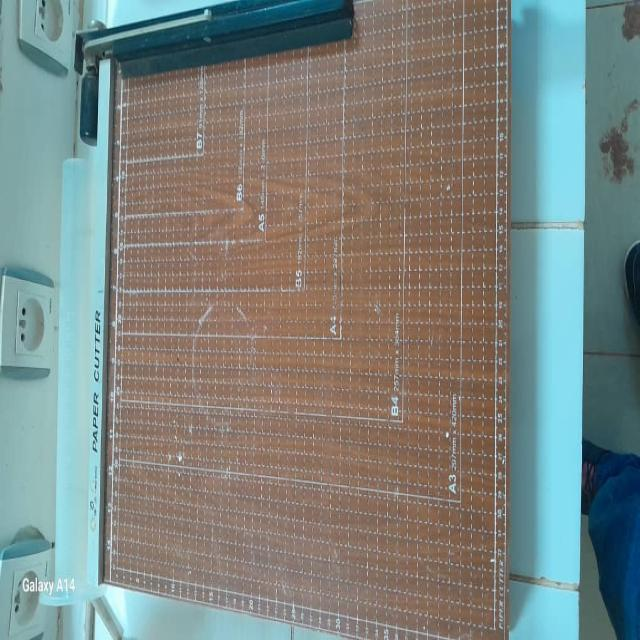TLC Cutter: (62, 0, 552, 619)
